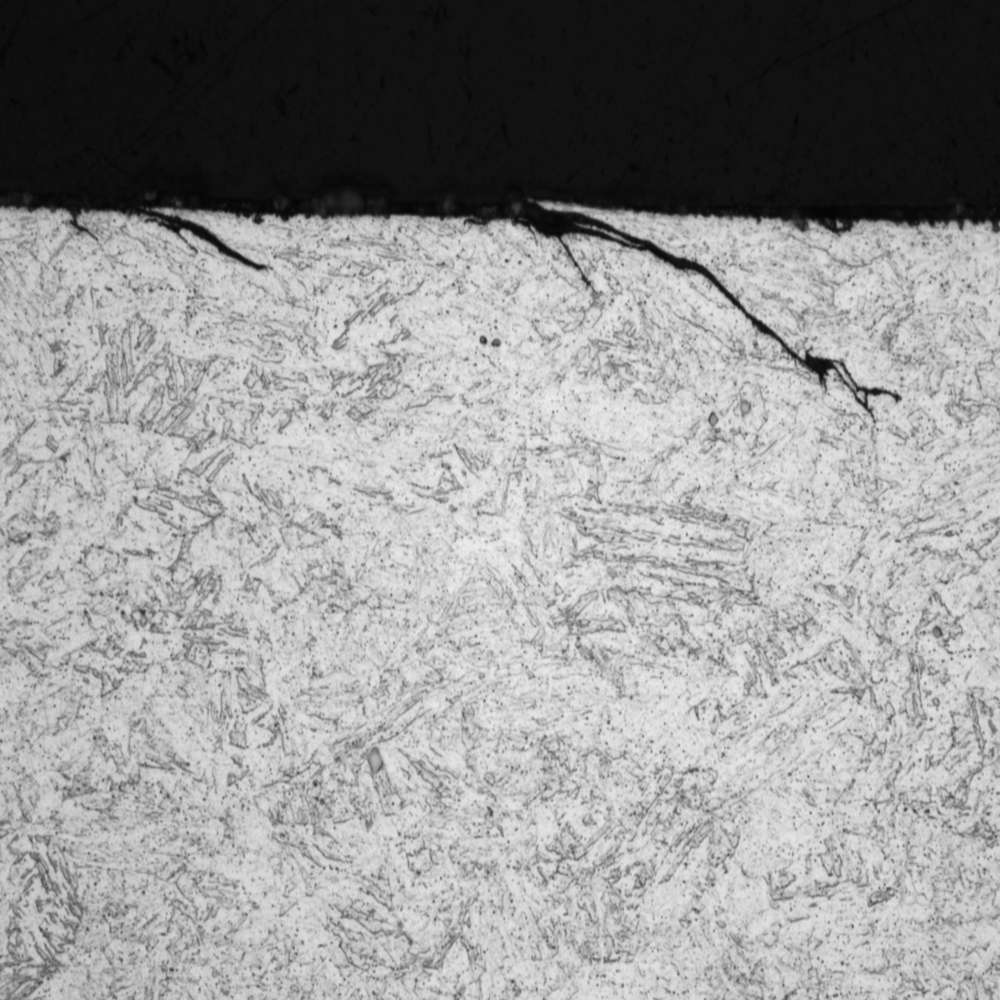crack: (471, 187, 918, 446), (96, 190, 284, 292)
